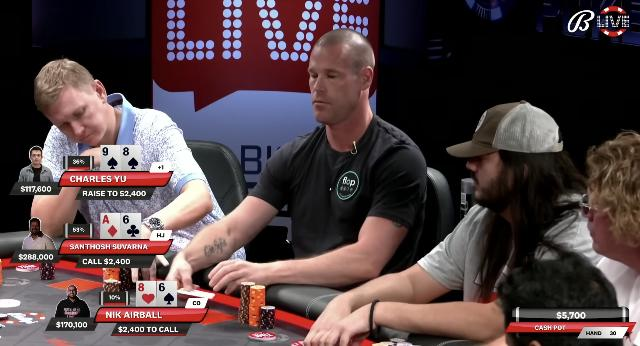6C: (122, 214, 140, 238)
6S: (158, 282, 176, 306)
8H: (137, 281, 155, 306)
8S: (122, 146, 140, 170)
9S: (102, 146, 120, 170)
AD: (102, 213, 120, 238)
